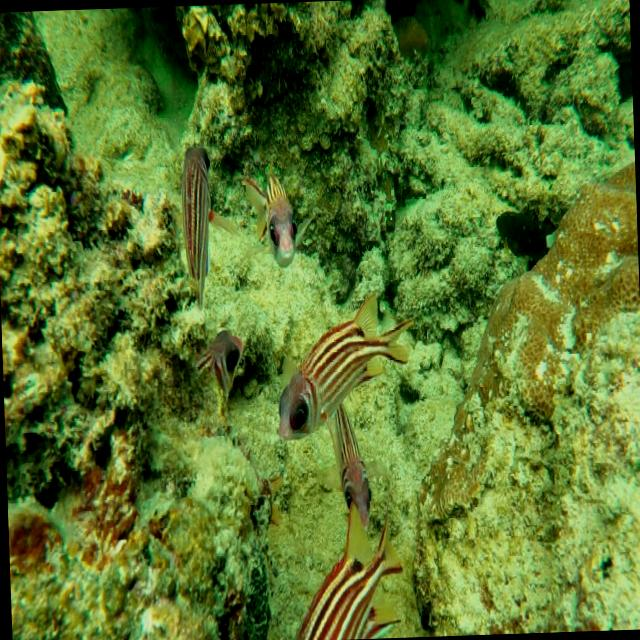Asker Baligi: (266, 281, 416, 452), (168, 117, 228, 321), (238, 136, 312, 276)
